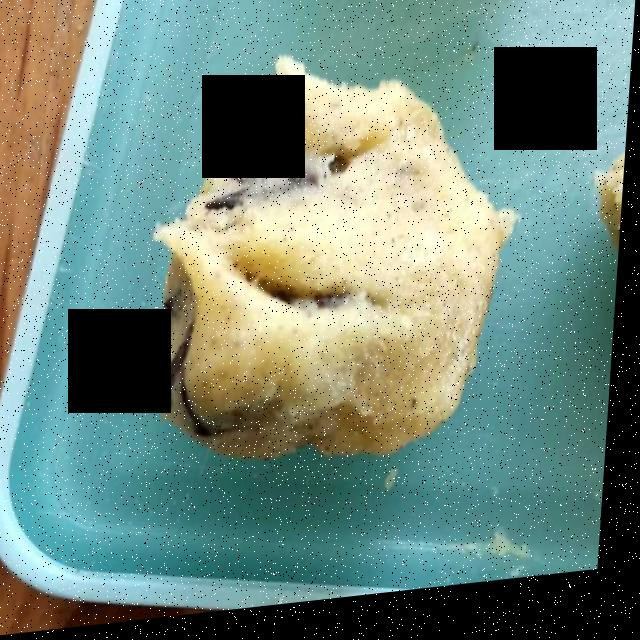cookies: (134, 78, 545, 486)
